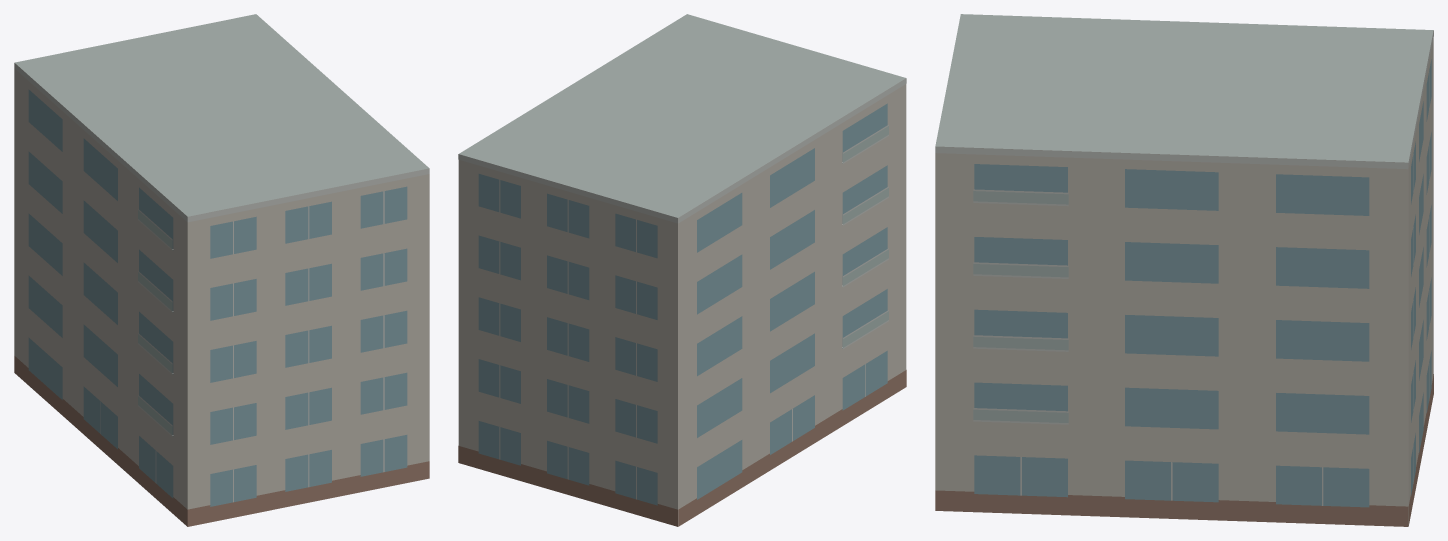
Rendered from survey-upis-32553824.glb.
The picture shows the model from 3 angles, left to right: view 1: azimuth 30°, elevation 25°; view 2: azimuth 150°, elevation 25°; view 3: azimuth 270°, elevation 25°; orthographic projection. The views are drawn at different scales.
Visible parts, largest first — view 1: survey-upis-32553824.tmp; view 2: survey-upis-32553824.tmp; view 3: survey-upis-32553824.tmp.
Boxes of the visible parts, x1,y1,x2,y2 form: survey-upis-32553824.tmp: (14,14,429,526); survey-upis-32553824.tmp: (458,14,906,526); survey-upis-32553824.tmp: (935,14,1433,526).
Bounding box in the file's own units: 11.73 × 13.4 × 16.63.
